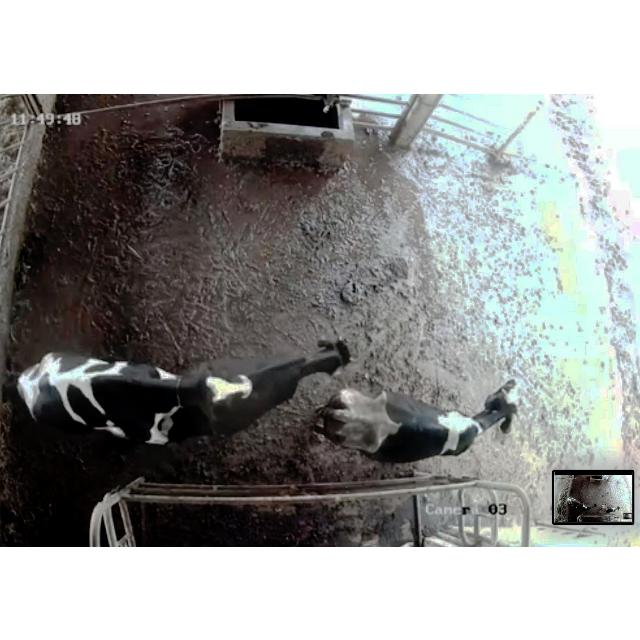ride: (8, 339, 262, 467)
